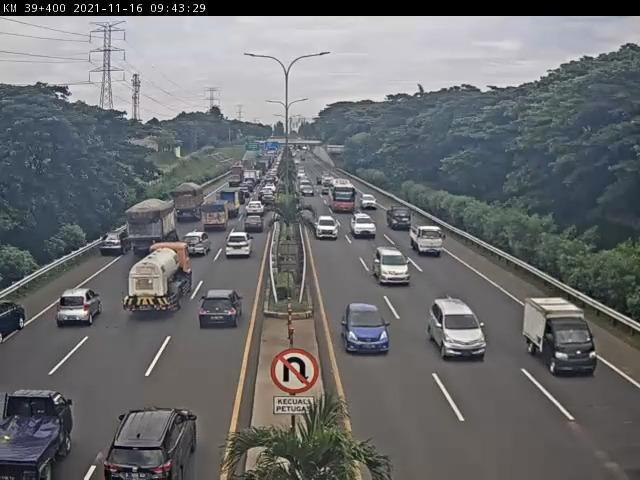bus: (328, 178, 359, 214)
car: (106, 408, 199, 480), (428, 298, 490, 362), (342, 304, 394, 358), (51, 294, 100, 337), (196, 292, 243, 334), (374, 249, 410, 286), (95, 232, 133, 263), (176, 236, 210, 262), (229, 234, 254, 261), (354, 214, 376, 238), (314, 214, 337, 236), (243, 217, 265, 239)
truck: (524, 297, 599, 378), (2, 395, 69, 480), (121, 246, 191, 320), (123, 201, 176, 262), (172, 184, 207, 224), (410, 225, 445, 257), (201, 200, 230, 234), (387, 206, 412, 233)
